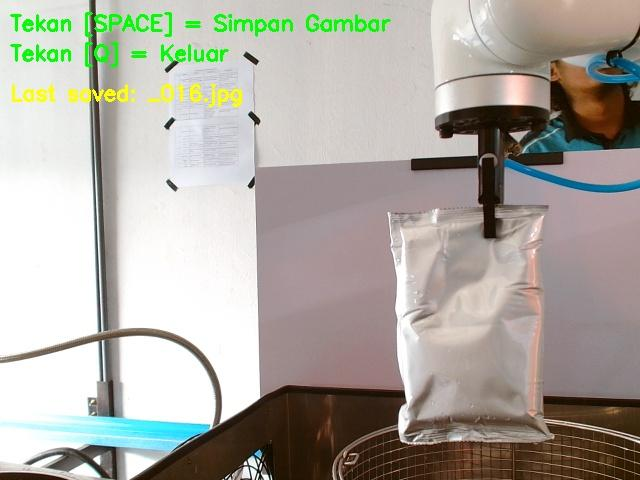retort-pouch: (386, 205, 553, 444)
